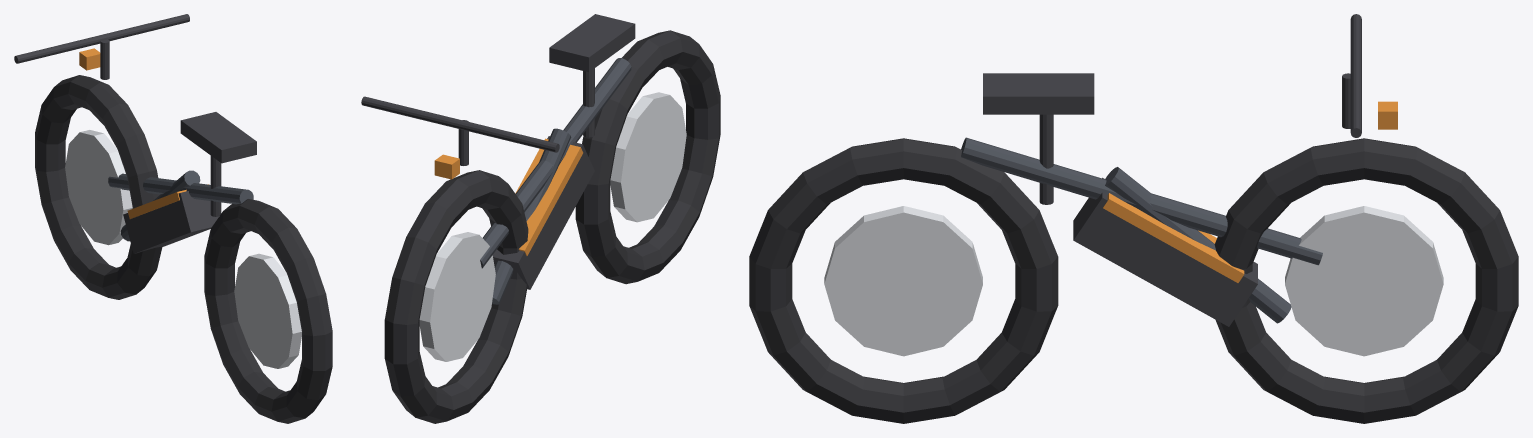
File: kit-bike.glb
3 renders of one model, left to right at view 1: azimuth 30°, elevation 25°; view 2: azimuth 150°, elevation 25°; view 3: azimuth 270°, elevation 25°, orthographic. The views are drawn at different scales.
Visible parts, largest first — view 1: tire-hub-r, tire-hub-f, rim-hub-r, rim-hub-f, pack, seat, tube-top, bars, tube-down, pack-stripe, seat-post, light (+1 smaller); view 2: tire-hub-f, tire-hub-r, rim-hub-r, rim-hub-f, tube-top, pack, seat, bars, pack-stripe, tube-down, seat-post, light (+1 smaller); view 3: tire-hub-r, tire-hub-f, rim-hub-r, rim-hub-f, pack, tube-top, seat, tube-down, pack-stripe, bars, seat-post.
Part boxes in pixels (bbox=[...]): tire-hub-r: bbox=[204, 199, 332, 423]; tire-hub-f: bbox=[35, 75, 162, 299]; rim-hub-r: bbox=[234, 253, 301, 368]; rim-hub-f: bbox=[65, 130, 132, 245]; pack: bbox=[123, 191, 218, 253]; seat: bbox=[180, 112, 256, 163]; tube-top: bbox=[108, 173, 253, 204]; bars: bbox=[14, 14, 189, 63]; tube-down: bbox=[120, 170, 200, 241]; pack-stripe: bbox=[127, 184, 208, 218]; seat-post: bbox=[210, 156, 221, 216]; light: bbox=[79, 48, 100, 70]; tire-hub-f: bbox=[384, 170, 528, 423]; tire-hub-r: bbox=[575, 30, 720, 284]; rim-hub-r: bbox=[610, 92, 686, 222]; rim-hub-f: bbox=[419, 232, 495, 361]; tube-top: bbox=[480, 58, 631, 268]; pack: bbox=[492, 136, 594, 289]; seat: bbox=[549, 14, 635, 72]; bars: bbox=[361, 96, 559, 152]; pack-stripe: bbox=[515, 138, 583, 255]; tube-down: bbox=[492, 128, 571, 304]; seat-post: bbox=[583, 68, 594, 137]; light: bbox=[434, 154, 459, 179]; tire-hub-r: bbox=[749, 138, 1058, 423]; tire-hub-f: bbox=[1214, 138, 1518, 423]; rim-hub-r: bbox=[824, 206, 982, 356]; rim-hub-f: bbox=[1285, 206, 1443, 356]; pack: bbox=[1073, 177, 1257, 326]; tube-top: bbox=[961, 137, 1322, 265]; seat: bbox=[983, 73, 1094, 114]; tube-down: bbox=[1105, 167, 1291, 323]; pack-stripe: bbox=[1103, 193, 1244, 282]; bars: bbox=[1350, 14, 1361, 137]; seat-post: bbox=[1039, 114, 1053, 204].
Bounding box in the file's own units: 0.68 × 0.979 × 1.94.
